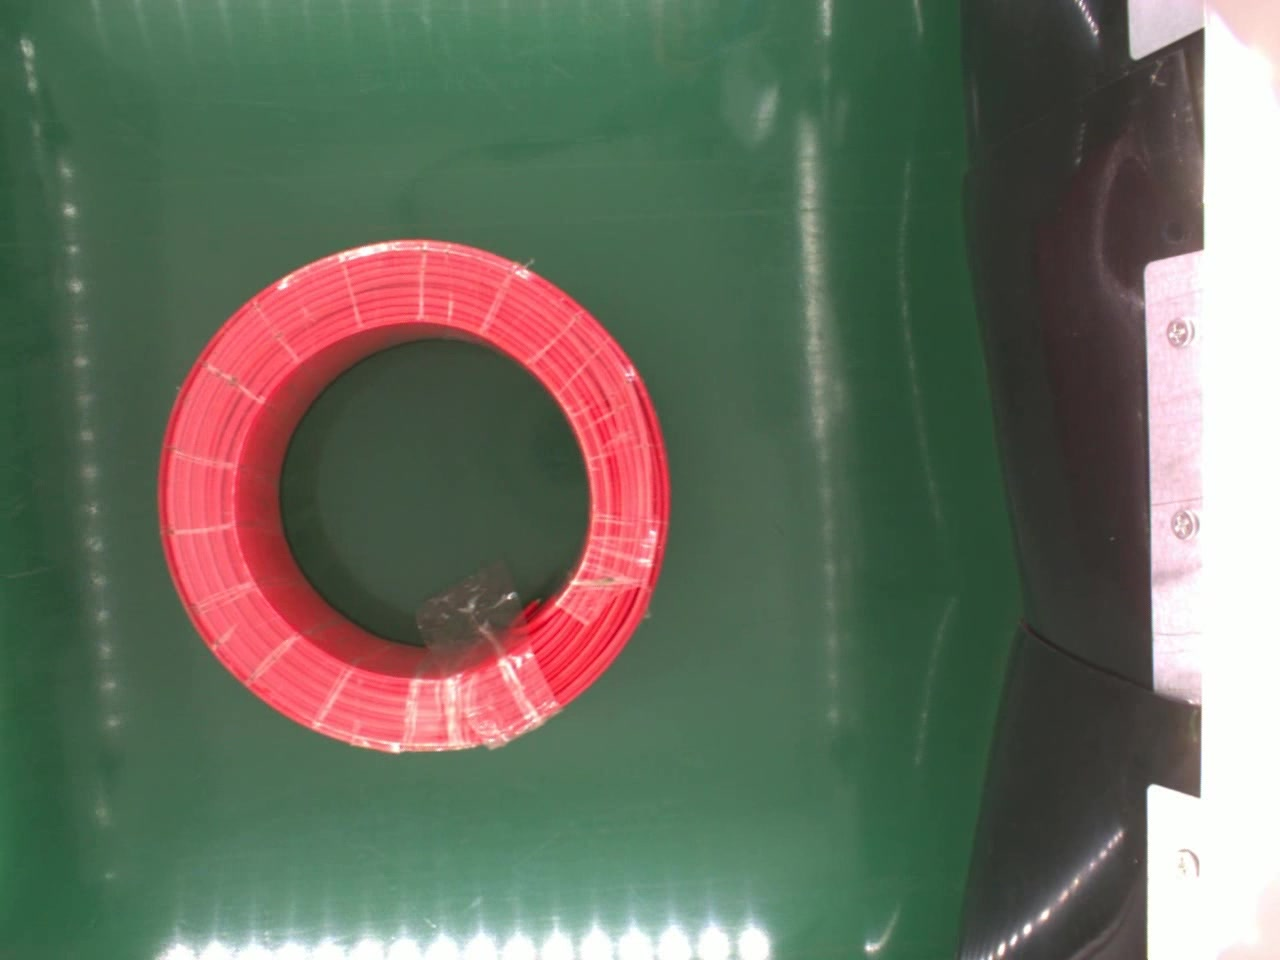red: (156, 237, 673, 759)
